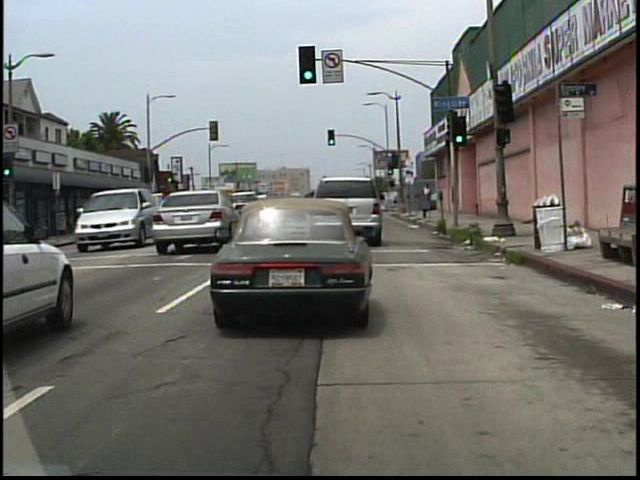person: (420, 182, 434, 212)
